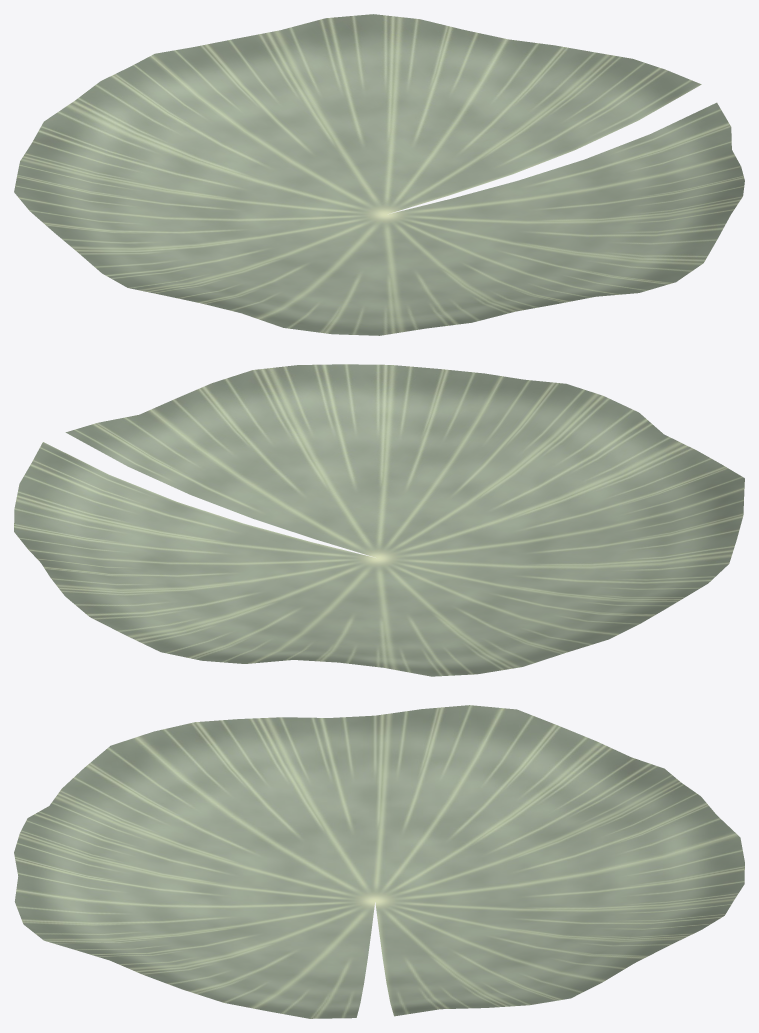
File: lotus_leaf.glb
3 renders of one model, top to bottom at view 1: azimuth 30°, elevation 25°; view 2: azimuth 150°, elevation 25°; view 3: azimuth 270°, elevation 25°, orthographic.
Visible parts, largest first — view 1: lotus_leaf; view 2: lotus_leaf; view 3: lotus_leaf.
Part boxes in pixels (x1=…): lotus_leaf: x1=14, y1=14, x2=744, y2=335; lotus_leaf: x1=14, y1=364, x2=744, y2=676; lotus_leaf: x1=14, y1=705, x2=744, y2=1018.
Size of the model in its own units: 0.3822 by 0.0259 by 0.3801.
Materials: 1 (1 with a texture image).
